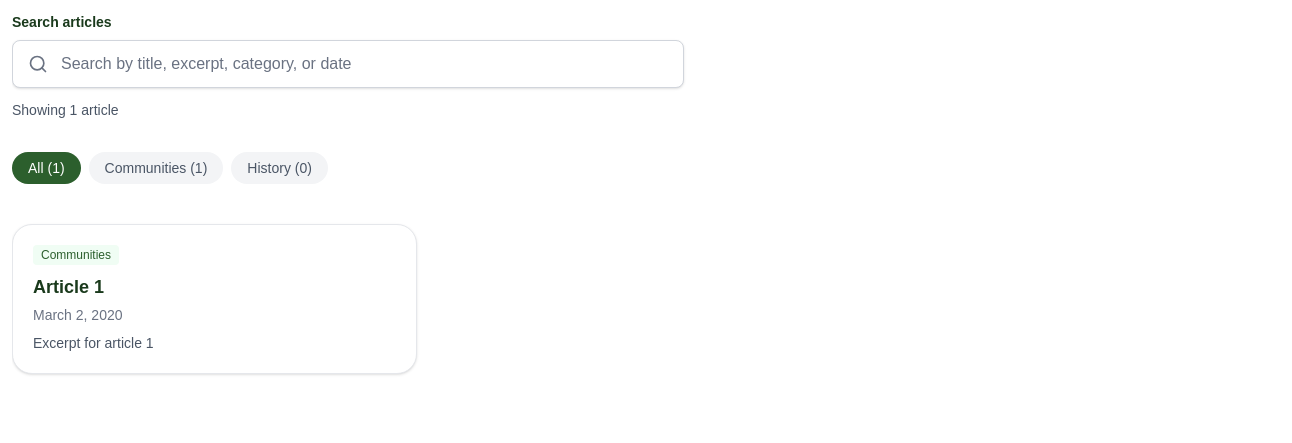
Test case: ArticlesList › clear-search button empties the query
This screenshot has width=1292, height=443.
Type "flood" into the search field labelled "Search articles" at (348, 64), box [12,40,684,88]
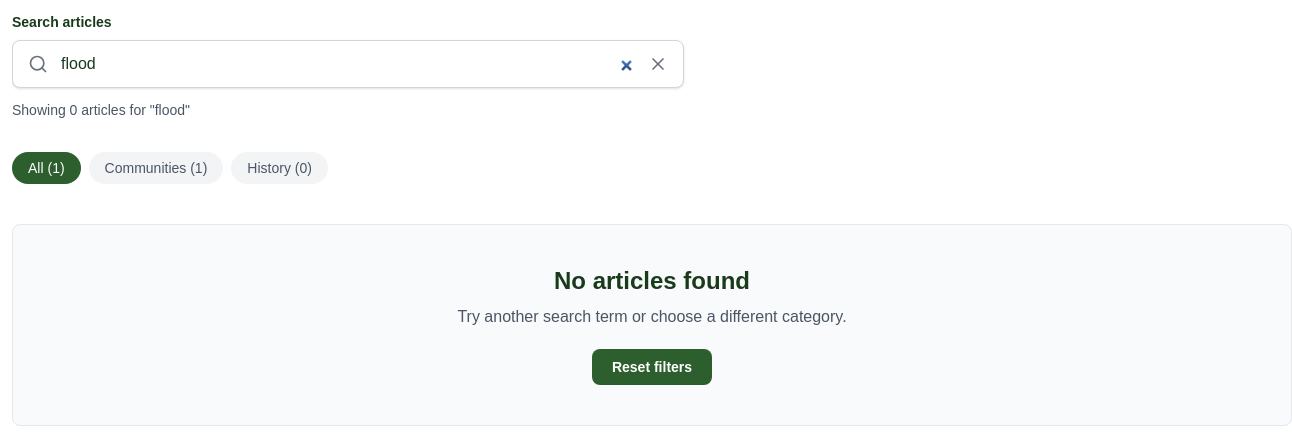
Click the button named "Clear article search" at (658, 64), box [640,46,676,82]
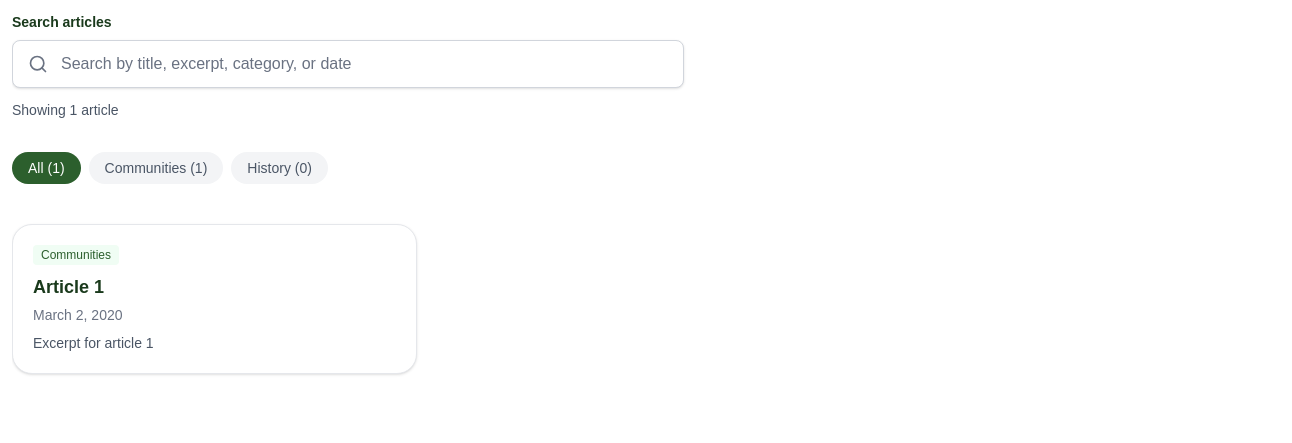
expect the search field labelled "Search articles" is empty: met, box [12,40,684,88]
expect the text "Showing 1 article" is shown: met, box [12,102,119,118]
